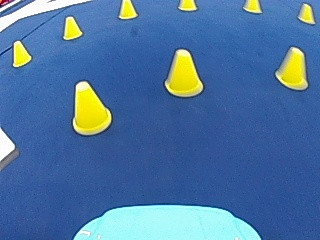cone: (71, 80, 111, 135), (164, 47, 203, 97), (274, 45, 308, 89), (11, 40, 31, 66), (62, 15, 82, 39), (296, 3, 315, 24), (118, 0, 137, 19), (243, 0, 261, 13), (178, 0, 196, 11)
